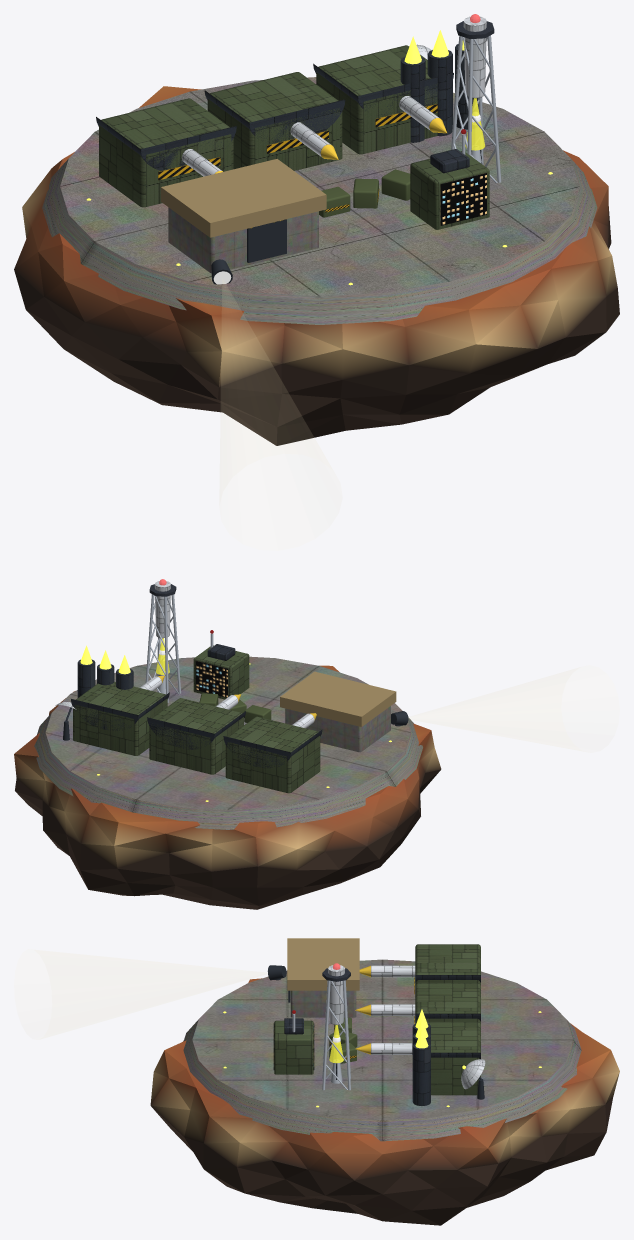
Rendered from ammo.glb.
The picture shows the model from 3 angles, top to bottom: view 1: azimuth 30°, elevation 25°; view 2: azimuth 150°, elevation 25°; view 3: azimuth 270°, elevation 25°; orthographic projection. The views are drawn at different scales.
Visible parts, largest first — view 1: object 1, object 2, object 13, object 29, object 18, object 23, object 28, object 74, object 19, object 75, object 14, object 84 (+6 smaller); view 2: object 1, object 2, object 13, object 18, object 23, object 29, object 28, object 74, object 19, object 14, object 76, object 24 (+2 smaller); view 3: object 2, object 1, object 29, object 23, object 18, object 13, object 74, object 28, object 86, object 66, object 16, object 21 (+2 smaller).
Part boxes in pixels (x1,y1,x2,y2): object 1: (14,86,619,445); object 2: (42,77,597,324); object 13: (99,98,233,207); object 29: (161,159,326,237); object 18: (207,72,342,170); object 23: (316,45,437,154); object 28: (168,207,318,273); object 74: (410,151,489,229); object 19: (204,90,345,143); object 75: (440,173,486,225); object 14: (96,117,236,170); object 84: (427,50,452,136); object 1: (14,665,441,909); object 2: (34,656,422,829); object 13: (225,716,320,793); object 18: (149,698,243,774); object 23: (73,682,167,755); object 29: (280,671,396,726); object 28: (285,706,390,752); object 74: (193,645,249,699); object 19: (147,711,245,749); object 14: (223,730,322,768); object 76: (195,661,228,697); object 24: (71,692,169,730); object 2: (183,959,581,1141); object 1: (150,978,619,1225); object 29: (287,938,359,990); object 23: (416,1022,480,1095); object 18: (415,983,480,1023); object 13: (415,944,480,985); object 74: (274,1020,313,1074); object 28: (290,990,356,1017); object 86: (412,1043,430,1105); object 66: (328,965,345,1024); object 16: (371,965,415,977); object 21: (371,1004,415,1015).
Size of the model in its own units: 7.7 by 4.03 by 9.24.
20 materials, 7 textured.
